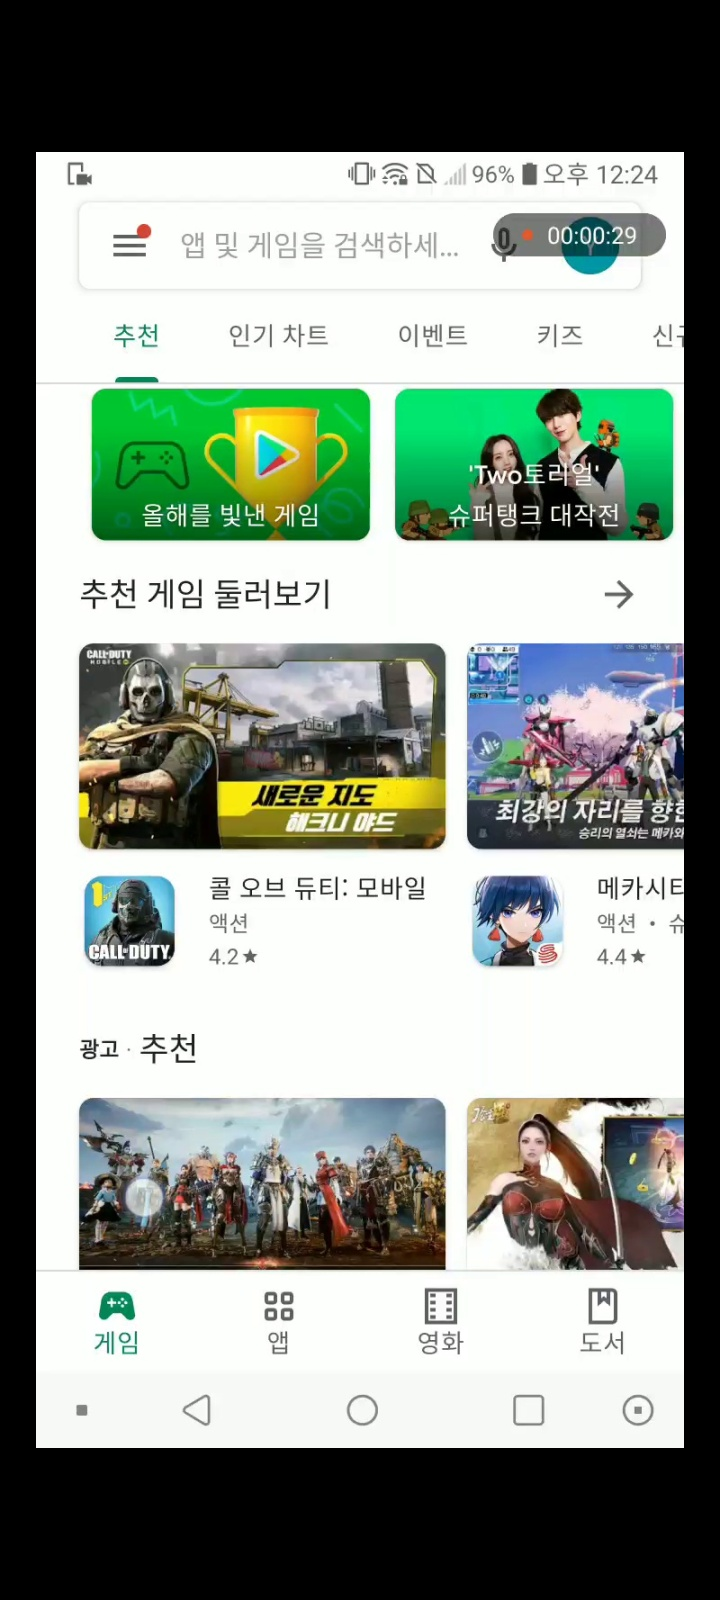Cursor: (123, 1176, 168, 1221)
